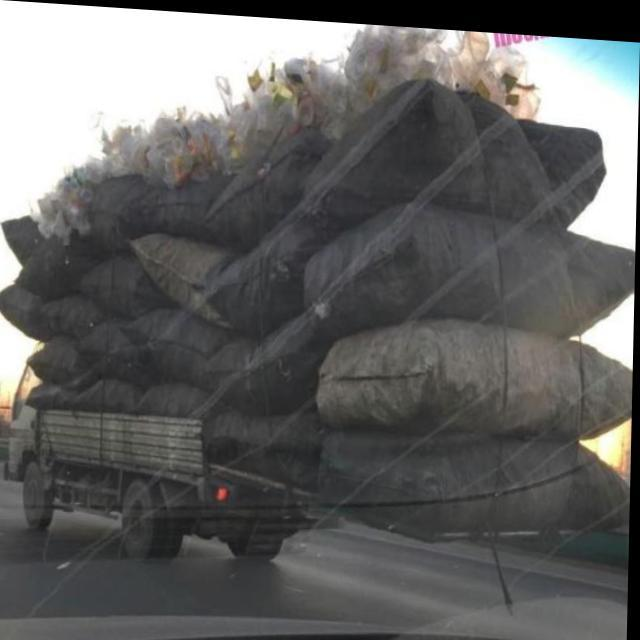uncovered: (0, 1, 640, 564)
